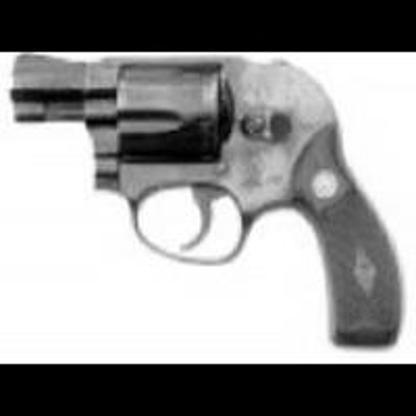weapon: (8, 55, 402, 352)
